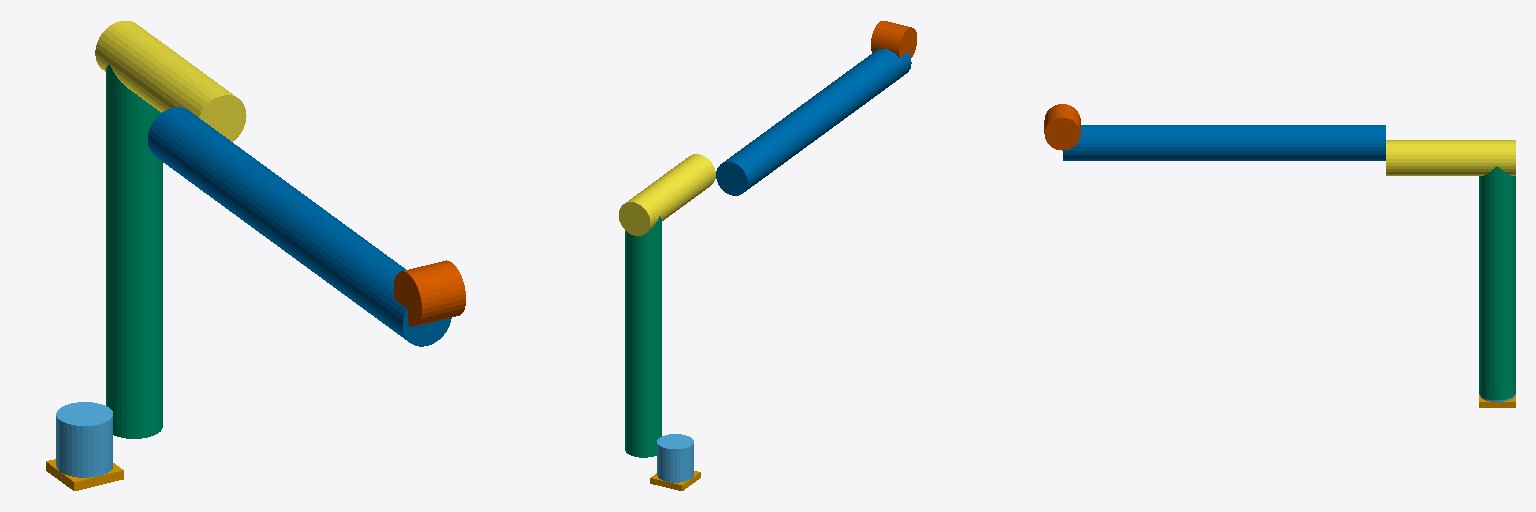
robot.urdf — rrrr_robot:
<?xml version="1.0" ?>
<robot name="rrrr_robot">

  <!-- Define the base link -->
  <link name="base_link">
    <visual>
      <origin xyz="0 0 -0.05" rpy="0 0 0"/>
      <geometry>
        <box size="0.56 0.56 0.1"/>
      </geometry>
    </visual>
  </link>

  <!-- Define joint 0 -->
  <joint name="joint0" type="revolute">
    <origin xyz="0 0 0" rpy="0 0 0"/>
    <parent link="base_link"/>
    <child link="link0"/>
    <axis xyz="0 0 1"/>
    <limit lower="-3.1416" upper="3.1416" effort="100" velocity="0.1"/>
  </joint>

  <!-- Define link 0 -->
  <link name="link0">
    <visual>
      <origin xyz="0 0 0.28" rpy="0 0 0"/>
      <geometry>
        <cylinder radius="0.28" length="0.56"/>
      </geometry>
    </visual>
  </link>

  <!-- Define joint 1 -->
  <joint name="joint1" type="revolute">
    <origin xyz="0.28 0 0.29" rpy="0 -1.5708 0"/>
    <parent link="link0"/>
    <child link="link1"/>
    <axis xyz="0 0 1"/>
    <limit lower="-1.5708" upper="1.5708" effort="100" velocity="0.1"/>
  </joint>

  <!-- Define link 1 -->
  <link name="link1">
    <visual>
      <origin xyz="2 0 -0.28" rpy="0 1.5708 0"/>
      <geometry>
        <cylinder radius="0.28" length="4.0"/>
      </geometry>
    </visual>
  </link>


  <!-- Define fixed joint between base_link and link1 -->
  <joint name="fixed_joint" type="fixed">
    <origin xyz="4 0.28 -0.28" rpy="1.5708 0 0"/>
    <parent link="link1"/>
    <child link="link1_1"/>
  </joint>

  <!-- Define link 1 -->
  <link name="link1_1">
    <visual>
      <origin xyz="0 0 1" rpy="0 0 0"/>
      <geometry>
        <cylinder radius="0.28" length="2.0"/>
      </geometry>
    </visual>
  </link>

  <!-- Define joint 2 -->
  <joint name="joint2" type="revolute">
    <origin xyz="0 0.28 2" rpy="-1.5708 0 0"/>
    <parent link="link1_1"/>
    <child link="link2"/>
    <axis xyz="0 0 1"/>
    <limit lower="-3.1416" upper="3.1416" effort="100" velocity="0.1"/>
  </joint>

  <!-- Define link 2 -->
  <link name="link2">
    <visual>
      <origin xyz="0 -2.5 0.28" rpy="1.5708 0 0"/>
      <geometry>
        <cylinder radius="0.28" length="5.0"/>
      </geometry>
    </visual>
  </link>

  <!-- Define joint 3 -->
  <joint name="joint3" type="revolute">
    <origin xyz="0 -5 0" rpy="0 1.5708 1.5708"/>
    <parent link="link2"/>
    <child link="link_end"/>
    <axis xyz="0 1 0"/>
    <limit lower="-3.1416" upper="3.1416" effort="100" velocity="0.1"/>
  </joint>

  <!-- Define link 3 -->
  <link name="link_end">
    <visual>
      <origin xyz="-0.25 -0.28 0" rpy="0 1.5708 0"/>
      <geometry>
        <cylinder radius="0.28" length="0.5"/>
      </geometry>
    </visual>
  </link>

</robot>

--- Facts derived from the render (not from the file) ---
The picture shows the robot from 3 angles, left to right: view 1: azimuth 30°, elevation 25°; view 2: azimuth 150°, elevation 25°; view 3: azimuth 270°, elevation 25°; orthographic projection.
Model rrrr_robot with 6 links and 5 joints (4 revolute, 1 fixed), rooted at base_link, posed all joints at 0.
Links seen in each view (by area): view 1: link1, link2, link1_1, link0, link_end, base_link; view 2: link1, link2, link1_1, link0, link_end; view 3: link2, link1, link1_1, link_end.
Boxes of the visible links, x1=… form: link1: x1=106, y1=64, x2=162, y2=438; link2: x1=148, y1=107, x2=451, y2=346; link1_1: x1=95, y1=21, x2=246, y2=141; link0: x1=56, y1=402, x2=112, y2=477; link_end: x1=394, y1=260, x2=465, y2=326; base_link: x1=46, y1=459, x2=123, y2=490; link1: x1=625, y1=216, x2=661, y2=457; link2: x1=716, y1=49, x2=911, y2=195; link1_1: x1=619, y1=154, x2=715, y2=235; link0: x1=657, y1=434, x2=693, y2=482; link_end: x1=871, y1=21, x2=916, y2=57; link2: x1=1063, y1=125, x2=1385, y2=160; link1: x1=1479, y1=166, x2=1515, y2=399; link1_1: x1=1386, y1=140, x2=1515, y2=175; link_end: x1=1044, y1=104, x2=1080, y2=150.
Bounding box of the posed robot: 1.12 × 7.28 × 4.95 m (x, y, z).
Geometry: primitives only (box / cylinder / sphere), no mesh files.